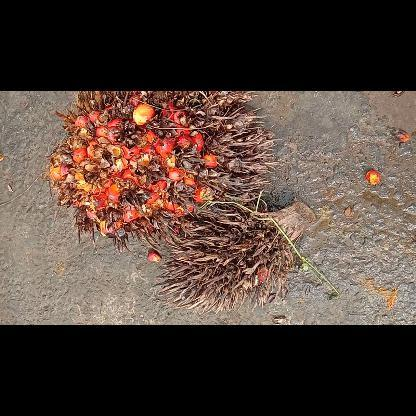Janjang kosong: (150, 199, 316, 313)
Terlalu masak: (44, 90, 282, 254)
